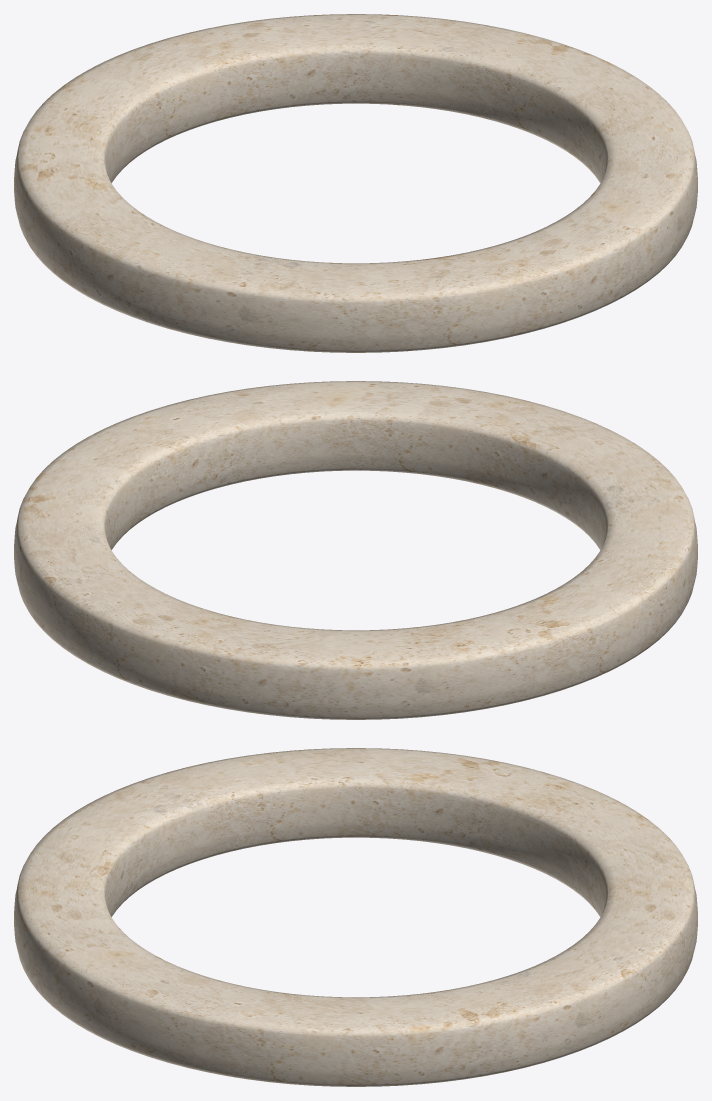
File: yinsh-ring-white.glb
3 views of the same model, one above another, from view 1: azimuth 30°, elevation 25°; view 2: azimuth 150°, elevation 25°; view 3: azimuth 270°, elevation 25° (orthographic).
Parts seen in each view (by area): view 1: yinsh-ring-white; view 2: yinsh-ring-white; view 3: yinsh-ring-white.
Part boxes in pixels (box(x1,y1,x2,y2)): yinsh-ring-white: box(14, 14, 697, 352); yinsh-ring-white: box(14, 381, 697, 719); yinsh-ring-white: box(14, 748, 697, 1086).
Size of the model in its own units: 0.032 by 0.00306 by 0.032.
Materials: 1 (1 with a texture image).
